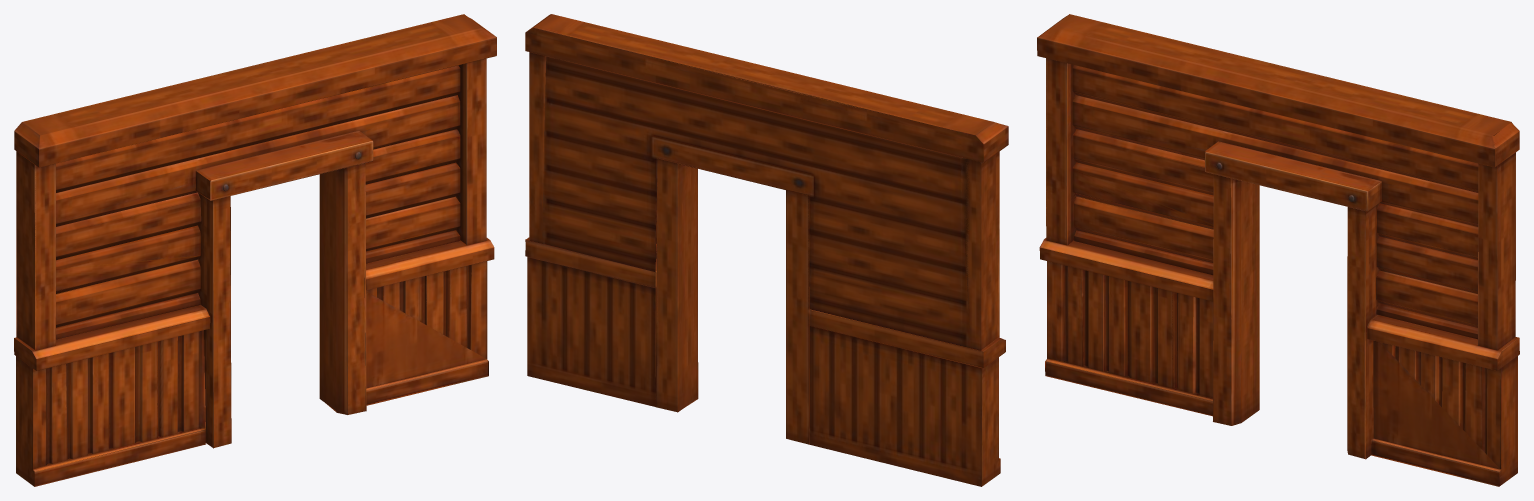
File: HK_partition.glb
The picture shows the model from 3 angles, left to right: view 1: azimuth 30°, elevation 25°; view 2: azimuth 150°, elevation 25°; view 3: azimuth 330°, elevation 25°; orthographic projection.
Bounding box in the file's own units: 0.9497 × 0.6934 × 0.0996.
Materials: 1 (1 with a texture image).
